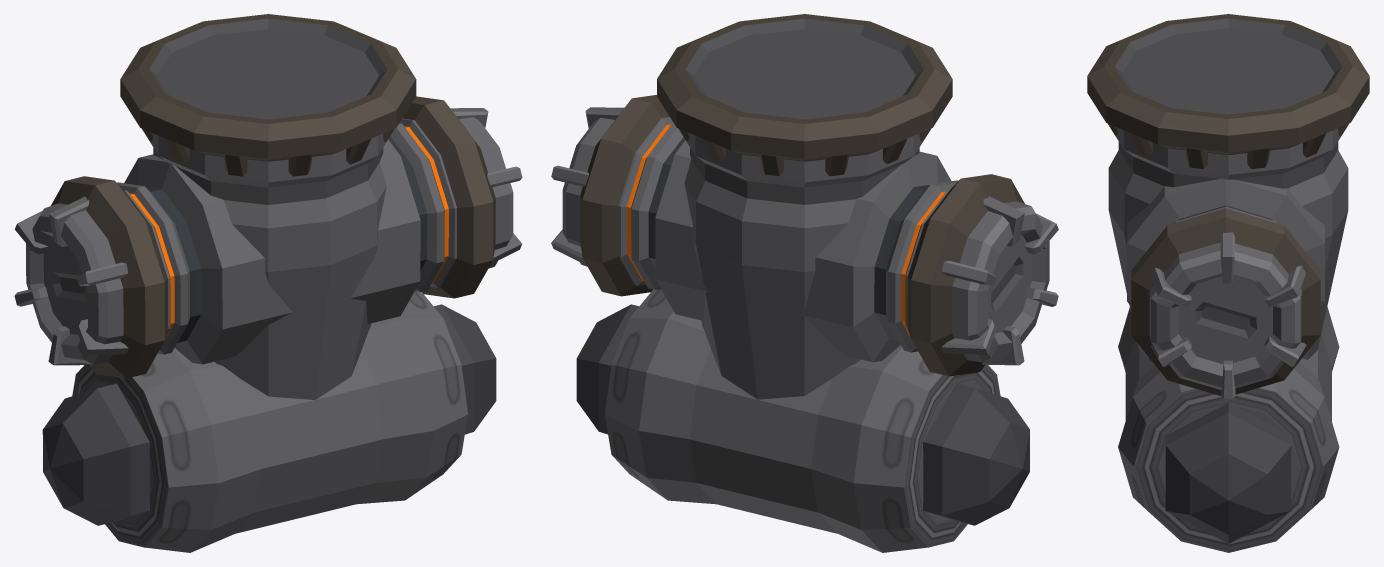
File: SM_Mech_Hips_01_Frame_01.fbx
3 views of the same model, side by side, from view 1: azimuth 30°, elevation 25°; view 2: azimuth 150°, elevation 25°; view 3: azimuth 270°, elevation 25° (orthographic). The views are drawn at different scales.
Visible parts, largest first — view 1: SM_Mech_Hips_01_Frame_01; view 2: SM_Mech_Hips_01_Frame_01; view 3: SM_Mech_Hips_01_Frame_01.
Part boxes in pixels (x1,y1,x2,y2): SM_Mech_Hips_01_Frame_01: (14,14,522,552); SM_Mech_Hips_01_Frame_01: (551,14,1058,552); SM_Mech_Hips_01_Frame_01: (1087,14,1369,552).
Size of the model in its own units: 108 by 106 by 63.18.
